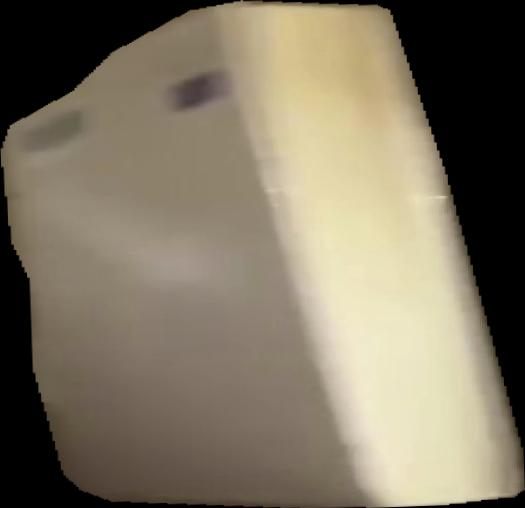backward: (1, 1, 525, 508)
